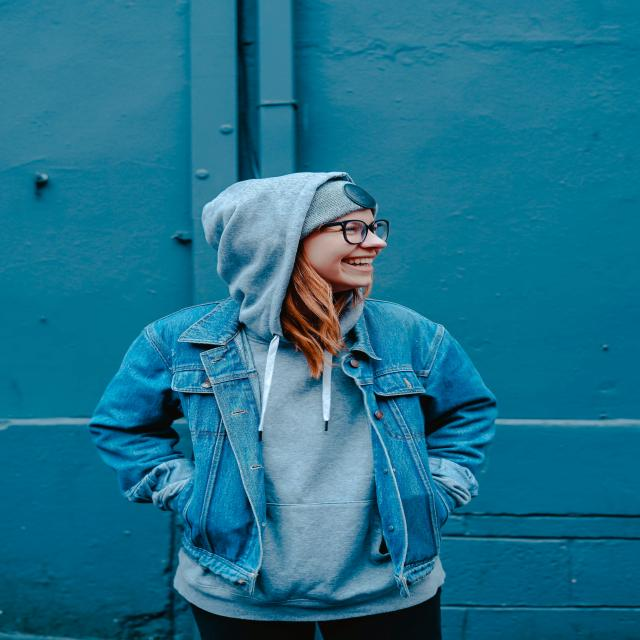adult: (88, 168, 505, 640)
